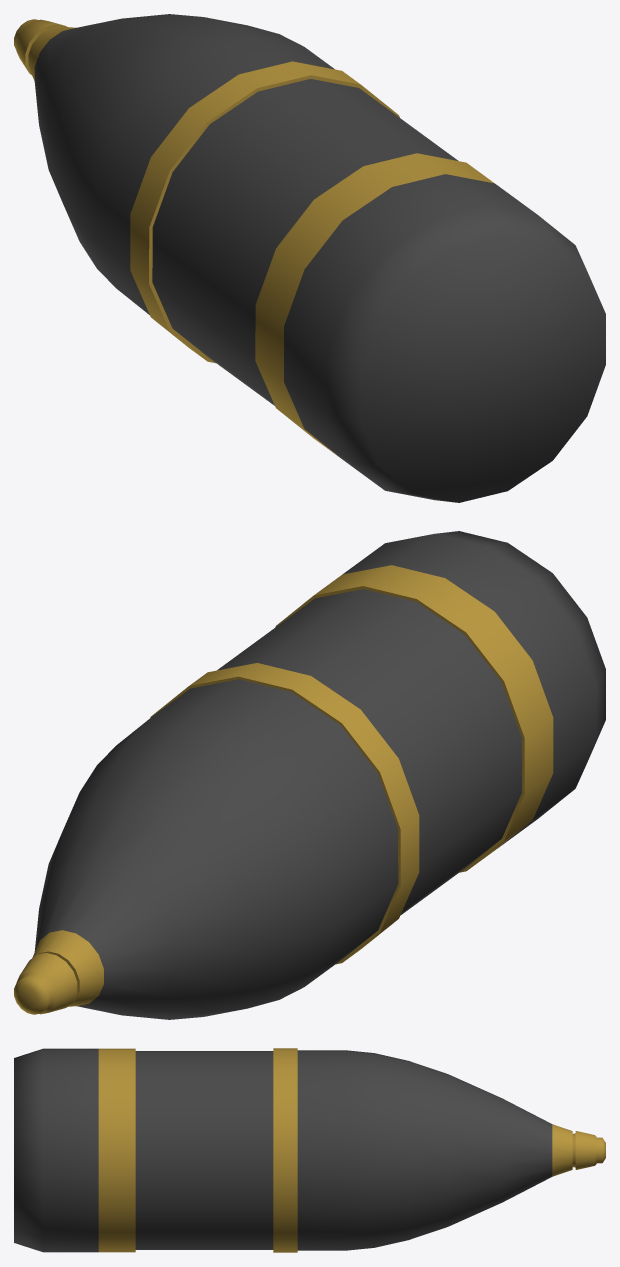
Rendered from he_bullet_122s.fbx.
3 renders of one model, top to bottom at view 1: azimuth 30°, elevation 25°; view 2: azimuth 150°, elevation 25°; view 3: azimuth 270°, elevation 25°, orthographic. The views are drawn at different scales.
Parts seen in each view (by area): view 1: Case.001; view 2: Case.001; view 3: Case.001.
Boxes of the visible parts, box(x1,y1,x2,y2) form: Case.001: box(14, 14, 605, 502); Case.001: box(14, 531, 605, 1019); Case.001: box(14, 1048, 605, 1252).
Bounding box in the file's own units: 98.59 × 98.59 × 288.
